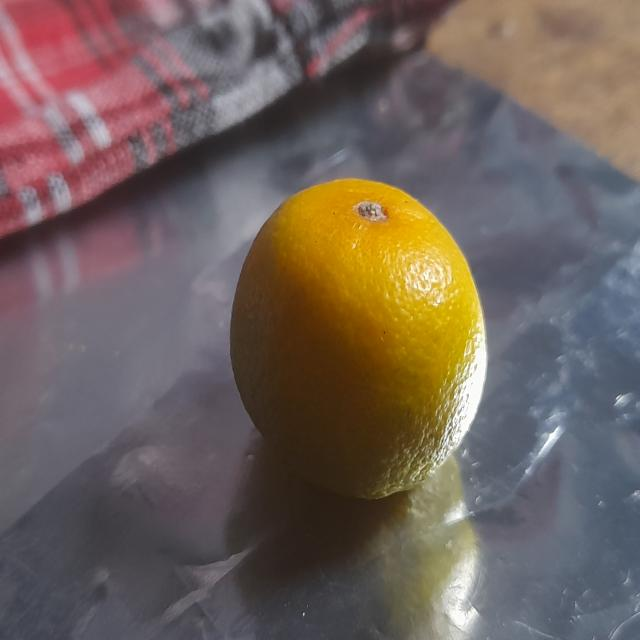greening: (224, 171, 489, 506)
